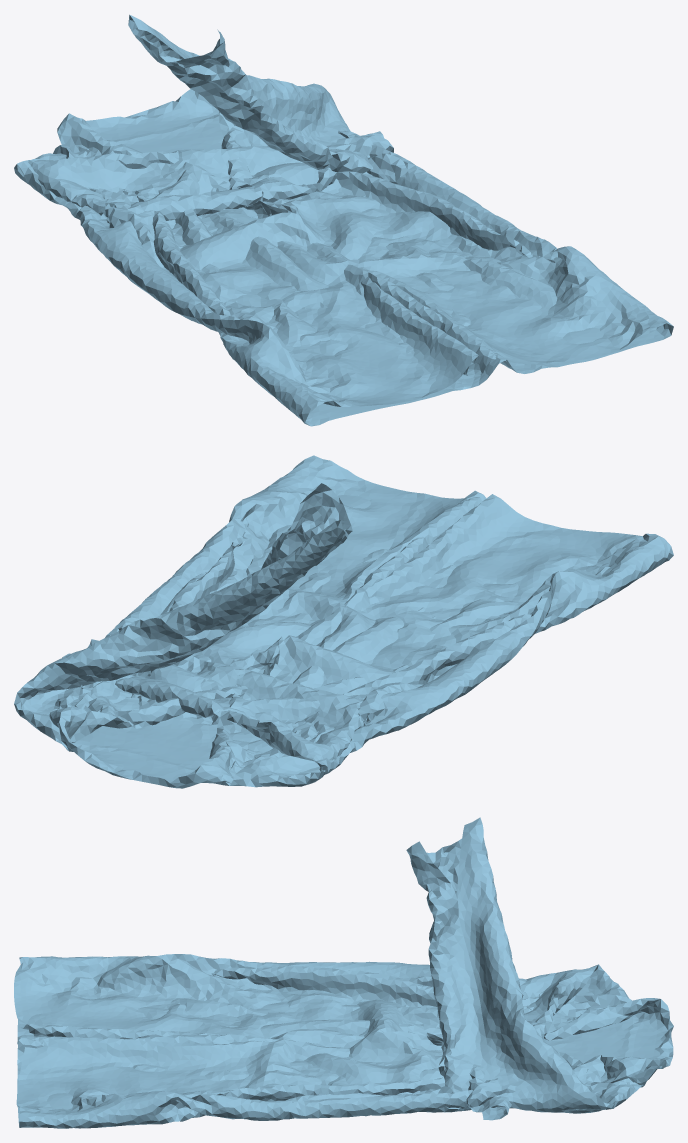
The model's file is frame_17.glb.
3 renders of one model, top to bottom at view 1: azimuth 30°, elevation 25°; view 2: azimuth 150°, elevation 25°; view 3: azimuth 270°, elevation 25°, orthographic. The views are drawn at different scales.
Visible parts, largest first — view 1: frame_17.obj; view 2: frame_17.obj; view 3: frame_17.obj.
Boxes of the visible parts, box(x1,y1,x2,y2) form: frame_17.obj: box(14, 14, 673, 426); frame_17.obj: box(14, 455, 673, 788); frame_17.obj: box(14, 817, 673, 1128).
Size of the model in its own units: 0.9607 by 0.5229 by 1.65.
